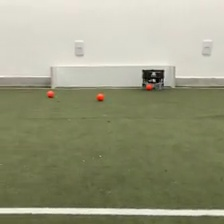ball: (46, 89, 55, 98), (96, 92, 105, 101), (145, 82, 153, 91)
goal: (48, 64, 178, 89)
robot: (140, 68, 166, 92)
